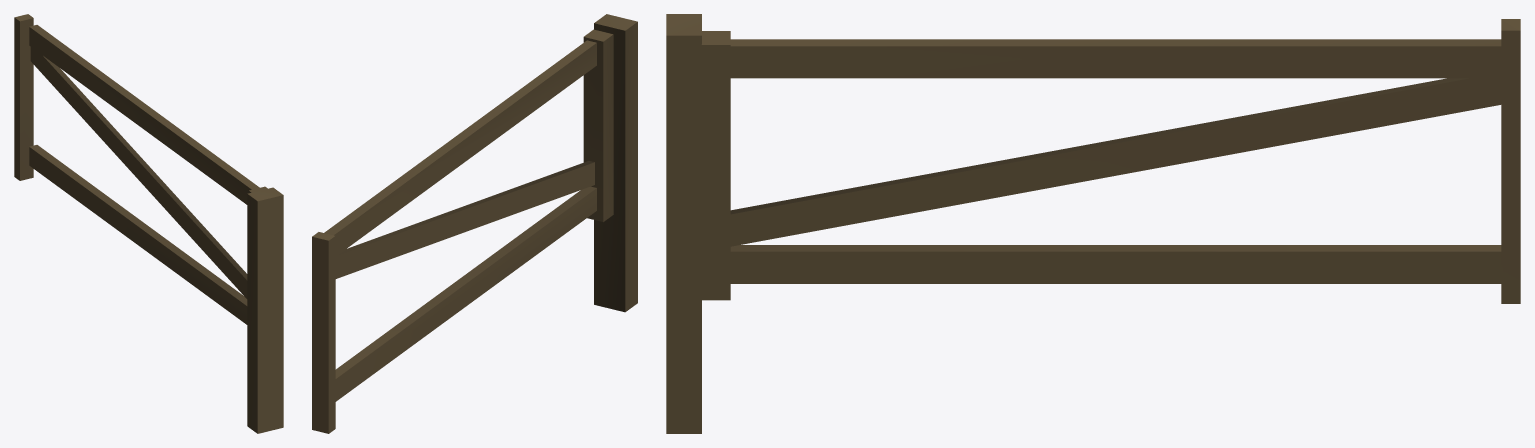
The model's file is Wood_FenceThinGateWide.fbx.
The picture shows the model from 3 angles, left to right: view 1: azimuth 30°, elevation 25°; view 2: azimuth 150°, elevation 25°; view 3: azimuth 270°, elevation 25°; orthographic projection. The views are drawn at different scales.
Parts seen in each view (by area): view 1: Wood_FenceThinGateWide; view 2: Wood_FenceThinGateWide; view 3: Wood_FenceThinGateWide.
Part boxes in pixels (left/top/right/bottom): Wood_FenceThinGateWide: left=14, top=14, right=283, bottom=433; Wood_FenceThinGateWide: left=312, top=14, right=637, bottom=433; Wood_FenceThinGateWide: left=666, top=14, right=1520, bottom=433.
Bounding box in the file's own units: 0.0104 × 0.0882 × 0.1714.
